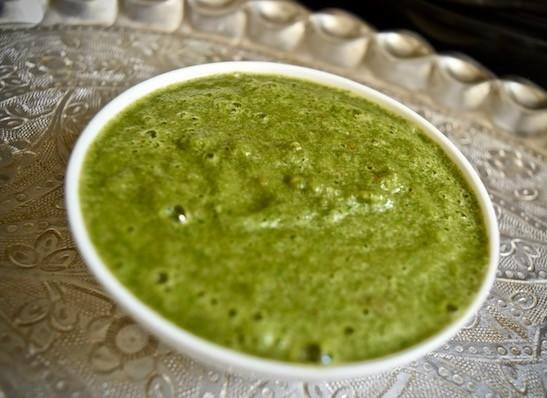GreenChutney: (80, 75, 486, 366)
